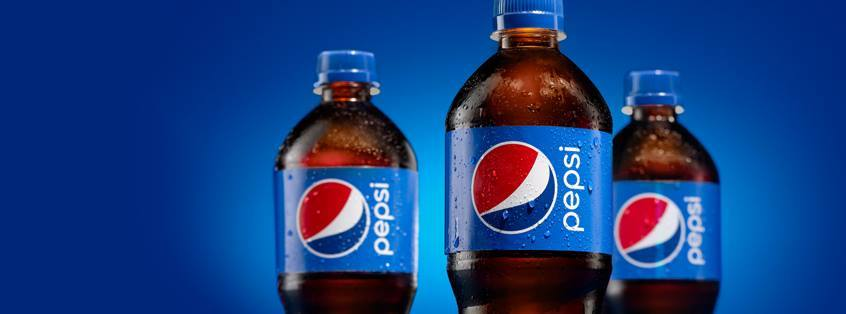pepsi: (470, 138, 558, 234), (292, 176, 370, 259), (294, 176, 370, 259), (612, 190, 685, 268)
